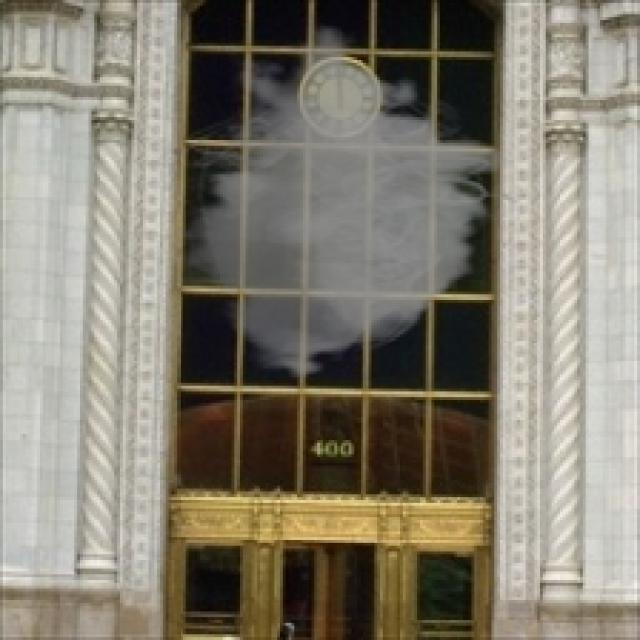Smoke: (151, 23, 523, 380)
